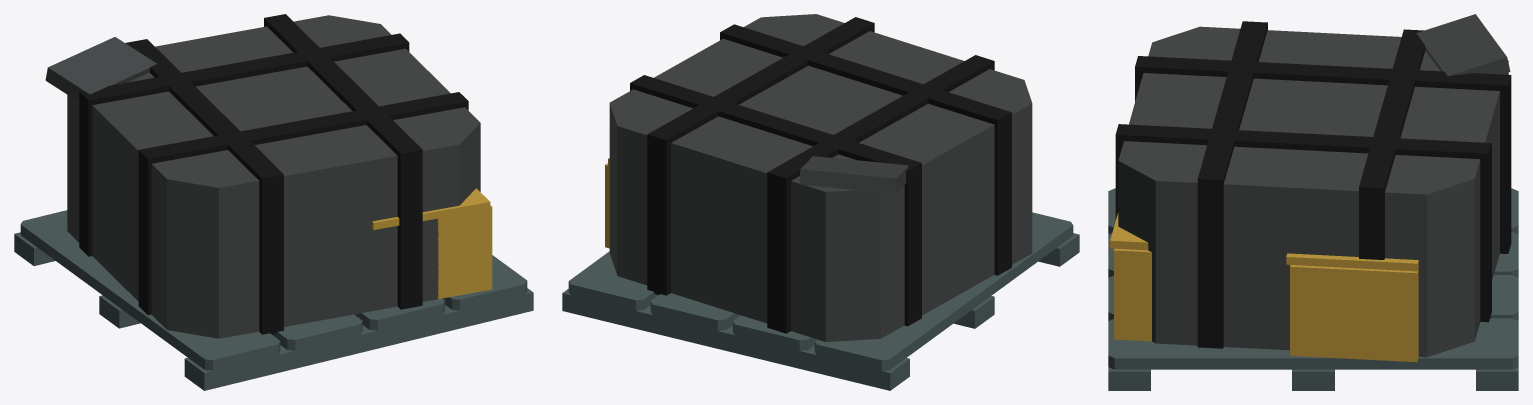
File: pallet_survival_meals_closed.obj
3 views of the same model, side by side, from view 1: azimuth 30°, elevation 25°; view 2: azimuth 150°, elevation 25°; view 3: azimuth 270°, elevation 25° (orthographic). The views are drawn at different scales.
Parts seen in each view (by area): view 1: pallet_survival_meals_closed; view 2: pallet_survival_meals_closed; view 3: pallet_survival_meals_closed.
Part boxes in pixels (x1,y1,x2,y2): pallet_survival_meals_closed: [14, 14, 533, 390]; pallet_survival_meals_closed: [562, 14, 1079, 390]; pallet_survival_meals_closed: [1108, 14, 1518, 390].
Size of the model in its own units: 1.95 by 1.09 by 1.92.
